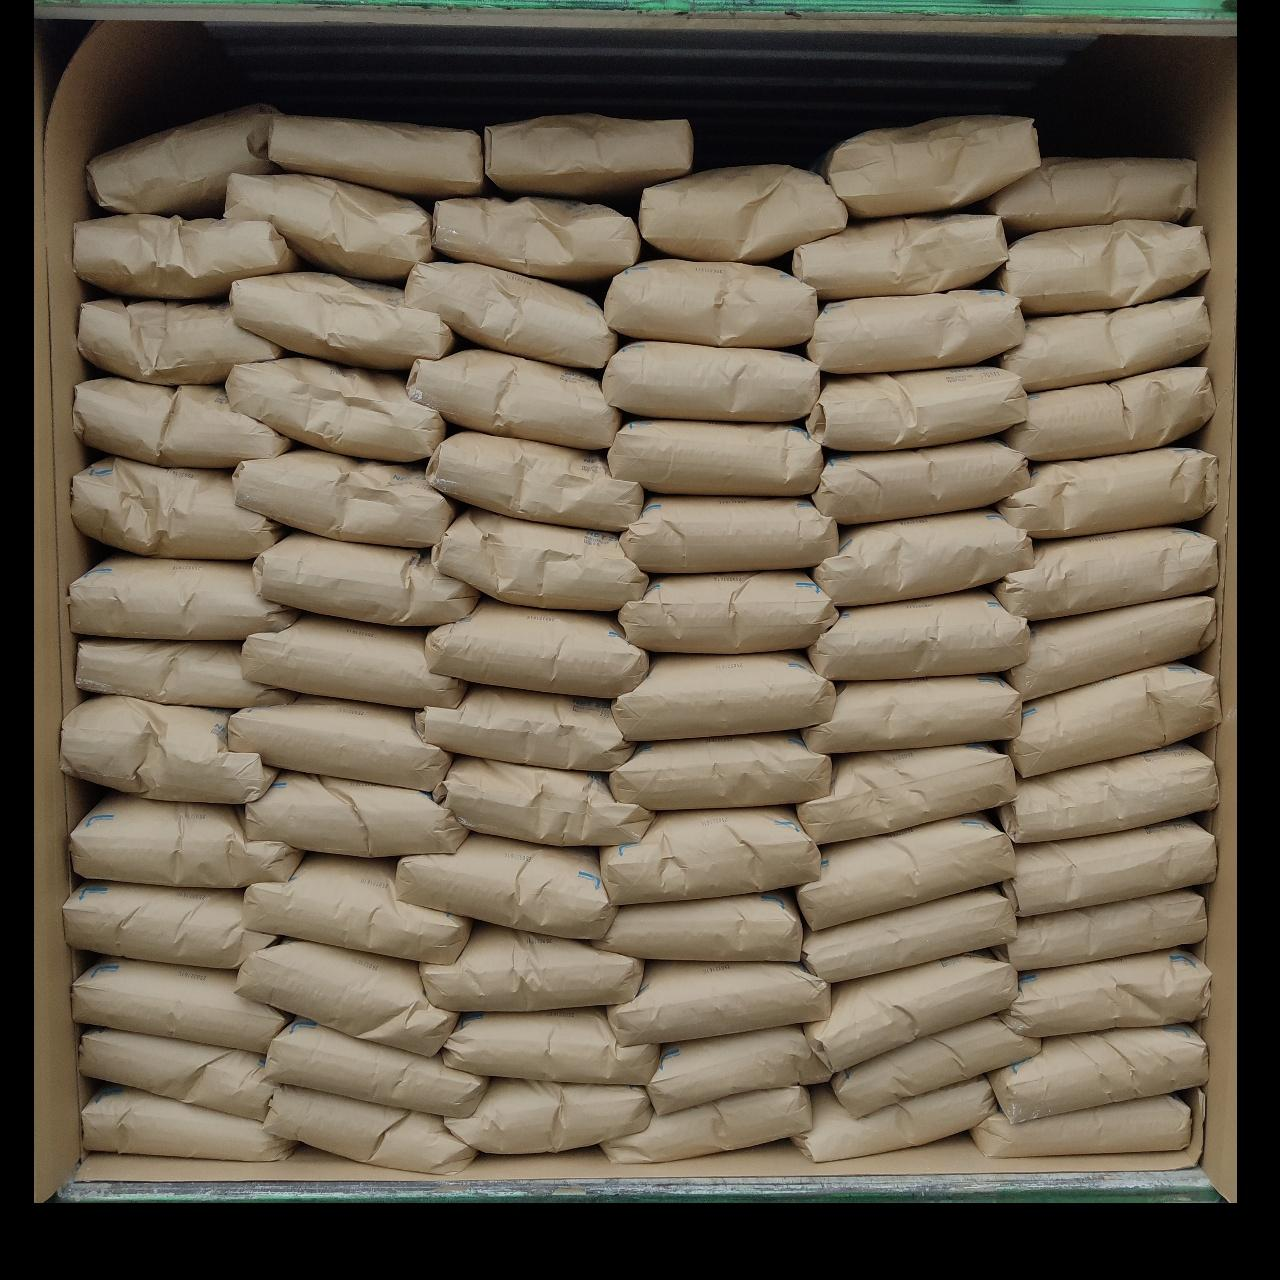sack: (240, 940, 456, 1054), (808, 952, 1014, 1070), (798, 814, 1012, 926), (246, 856, 470, 960), (1008, 664, 1218, 774), (226, 358, 444, 460), (396, 834, 614, 936), (62, 698, 274, 802), (406, 262, 614, 366), (230, 272, 454, 368), (1008, 596, 1214, 700), (226, 174, 430, 278), (822, 116, 1038, 214), (70, 794, 300, 886), (266, 1020, 486, 1116), (88, 104, 280, 214), (434, 508, 644, 608), (800, 744, 1014, 842), (236, 450, 454, 546), (74, 458, 282, 558), (832, 1016, 1038, 1116), (408, 348, 618, 446), (428, 432, 642, 528), (428, 600, 646, 694), (244, 614, 462, 708), (230, 696, 448, 790), (1000, 744, 1216, 838), (602, 808, 816, 902), (72, 958, 286, 1052), (256, 532, 478, 622), (640, 166, 846, 262), (1004, 366, 1214, 460), (804, 888, 1014, 982), (816, 512, 1030, 604), (992, 1026, 1206, 1118), (996, 528, 1214, 618), (1004, 820, 1214, 912), (810, 590, 1028, 678), (422, 924, 642, 1010), (70, 554, 294, 638), (1002, 298, 1206, 390), (484, 114, 692, 204), (616, 652, 832, 738), (998, 448, 1214, 534), (436, 758, 650, 844), (76, 380, 290, 466), (76, 216, 298, 298), (268, 114, 484, 198), (246, 772, 466, 854), (998, 224, 1206, 310), (606, 260, 814, 346), (266, 1086, 474, 1172), (418, 686, 630, 770), (808, 290, 1022, 372), (792, 216, 1006, 298), (814, 440, 1028, 522), (1004, 950, 1208, 1036), (66, 882, 274, 966), (432, 198, 638, 282), (610, 962, 830, 1040), (808, 366, 1022, 446), (620, 572, 834, 652), (82, 1030, 276, 1118), (604, 342, 818, 420), (80, 300, 280, 382), (622, 496, 836, 572), (444, 1008, 658, 1084), (794, 1078, 994, 1158), (806, 676, 1020, 750), (612, 734, 830, 806), (610, 420, 822, 494), (1002, 890, 1206, 966), (986, 160, 1194, 234), (648, 1028, 830, 1110), (604, 1088, 810, 1160), (84, 1088, 294, 1158), (446, 1078, 650, 1150), (78, 640, 288, 708), (972, 1094, 1190, 1156), (598, 892, 802, 958)
